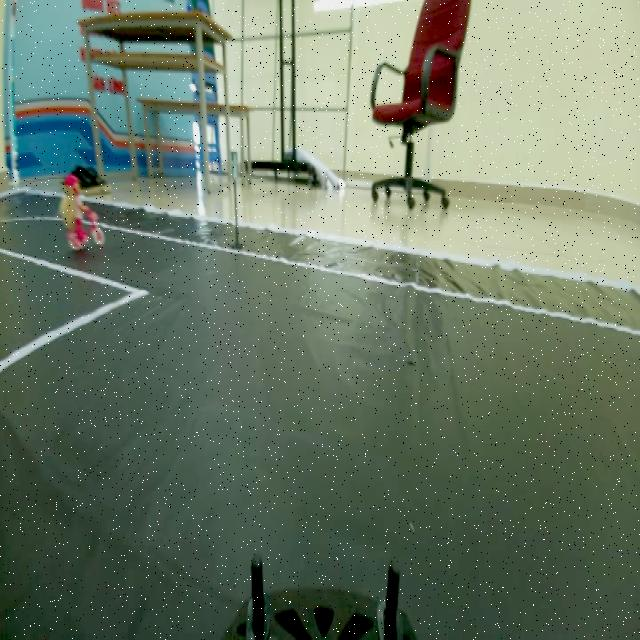pedestrian: (53, 169, 105, 257)
